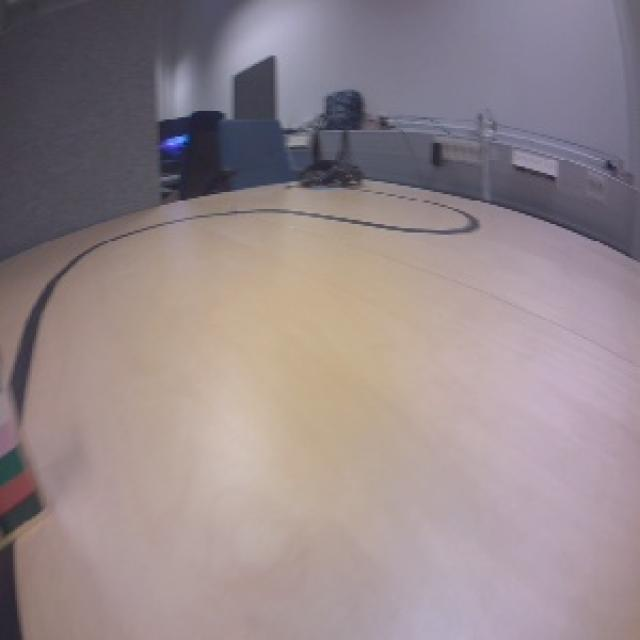obstacle: (1, 353, 55, 563)
